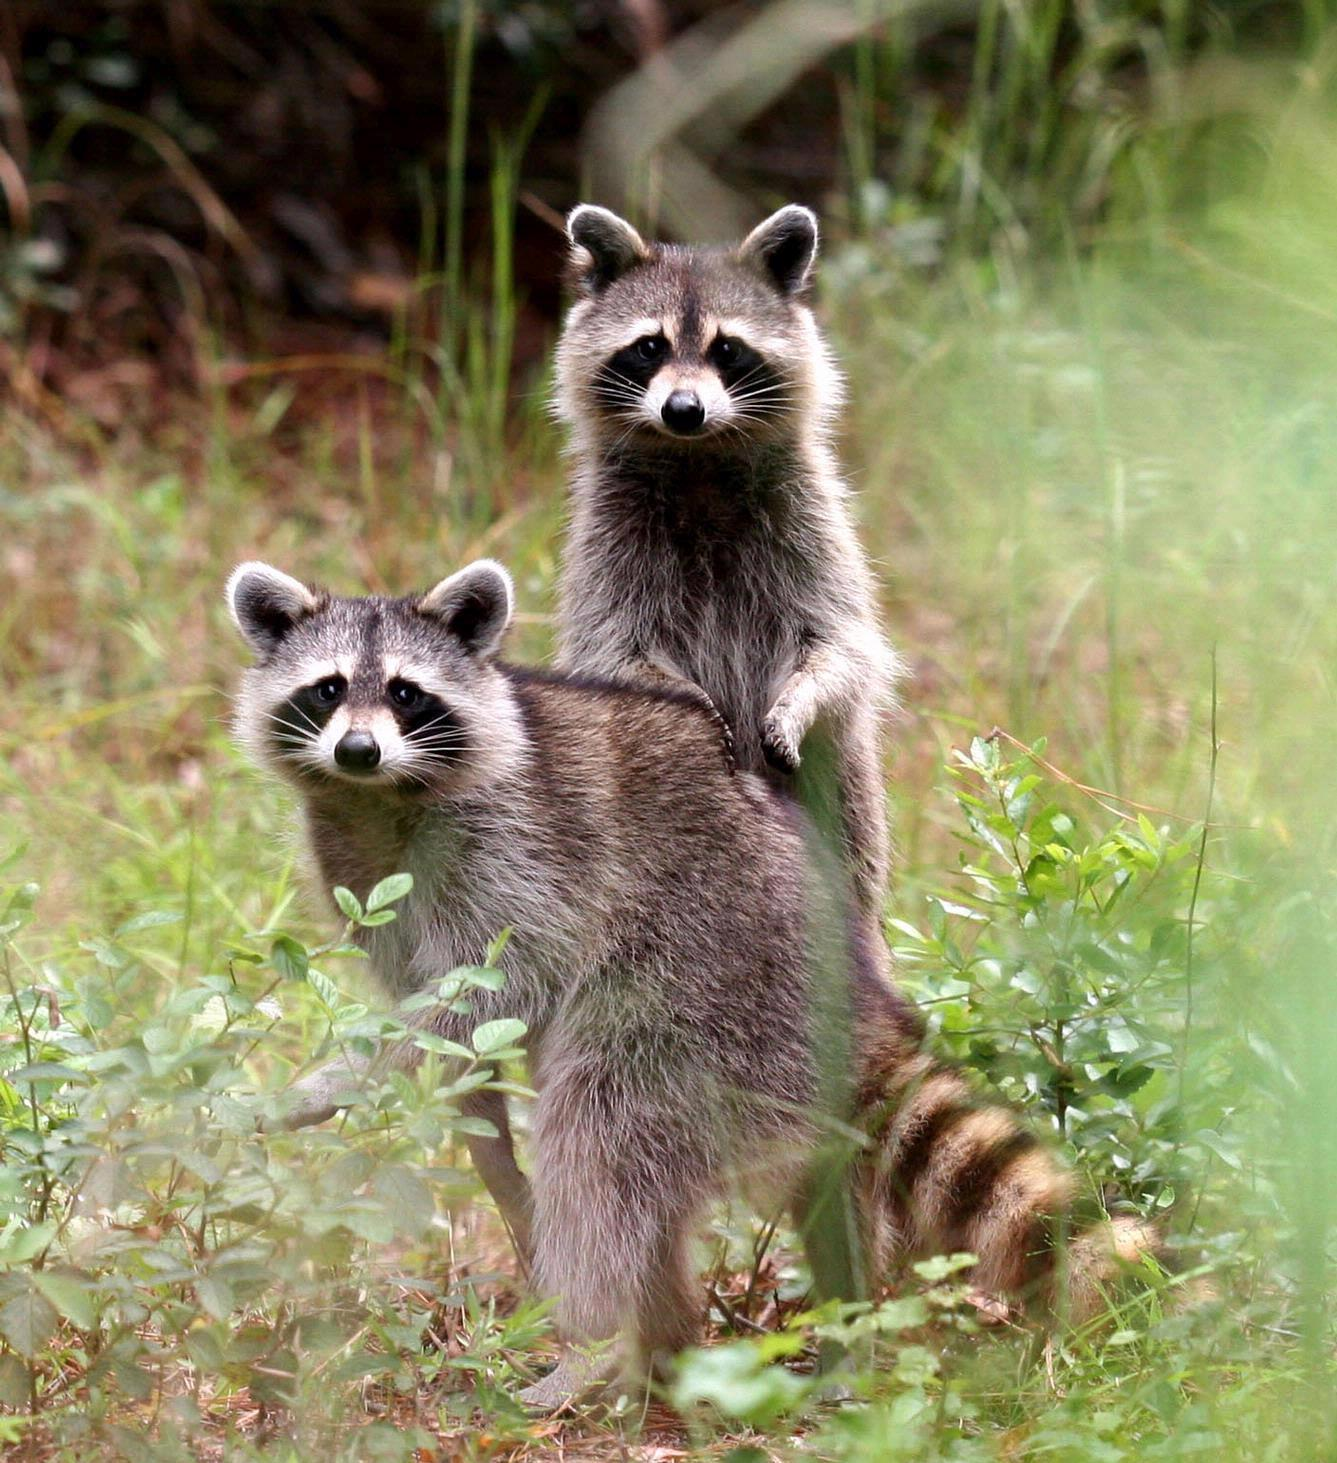raccoon: (198, 565, 1331, 1463), (533, 182, 975, 977)
